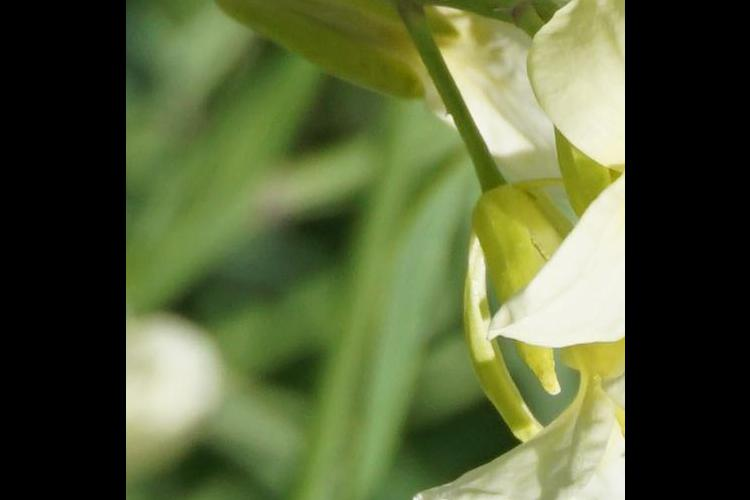white: (519, 1, 623, 350), (419, 374, 620, 500)
